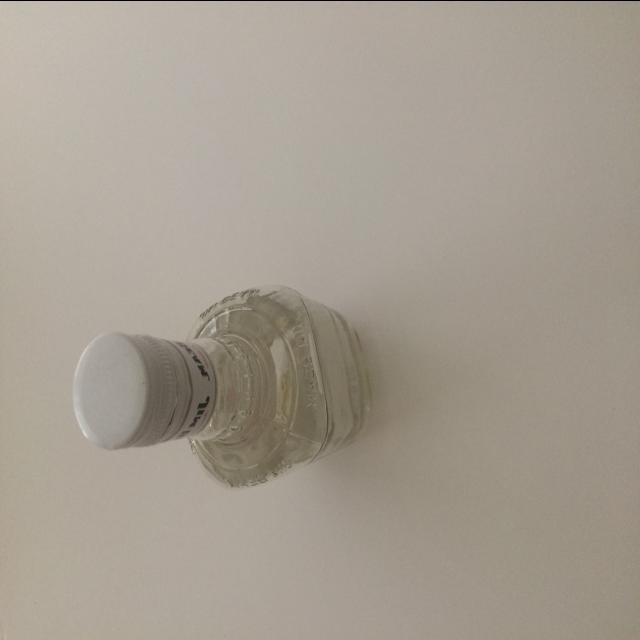glass: (72, 288, 372, 492)
